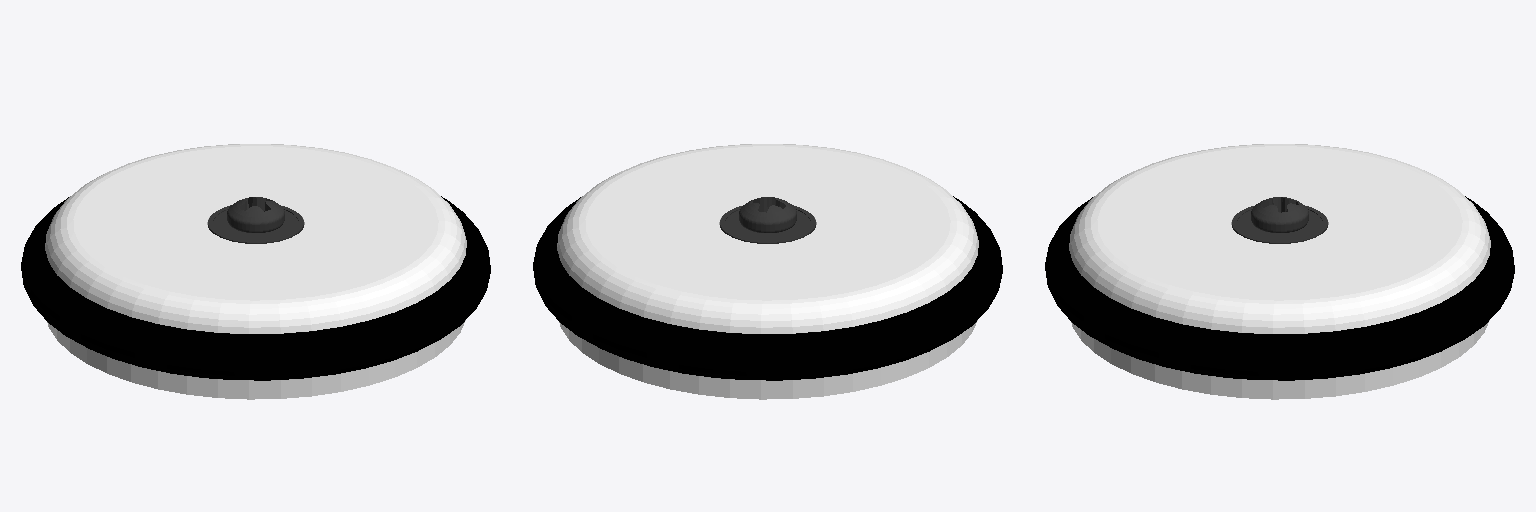
File: wheel.obj
3 renders of one model, left to right at view 1: azimuth 30°, elevation 25°; view 2: azimuth 150°, elevation 25°; view 3: azimuth 270°, elevation 25°, orthographic.
Visible parts, largest first — view 1: Body7, aa_Body2, Body1, Body3, Body1_1_Body1:1; view 2: Body7, aa_Body2, Body1, Body3, Body1_1_Body1:1; view 3: Body7, aa_Body2, Body1, Body3, Body1_1_Body1:1.
Boxes of the visible parts, box(x1,y1,x2,y2) form: Body7: box(45, 144, 466, 399); aa_Body2: box(21, 196, 490, 380); Body1: box(227, 197, 284, 232); Body3: box(213, 210, 298, 240); Body1_1_Body1:1: box(208, 205, 303, 243); Body7: box(557, 144, 978, 399); aa_Body2: box(533, 196, 1002, 380); Body1: box(739, 197, 796, 232); Body3: box(725, 210, 810, 240); Body1_1_Body1:1: box(720, 205, 815, 243); Body7: box(1069, 144, 1490, 399); aa_Body2: box(1045, 196, 1514, 380); Body1: box(1251, 197, 1308, 232); Body3: box(1237, 210, 1322, 240); Body1_1_Body1:1: box(1232, 206, 1327, 243).
Size of the model in its own units: 0.0489 by 0.0125 by 0.049.